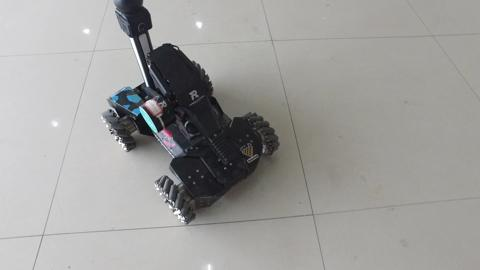chariot: (66, 13, 269, 226)
